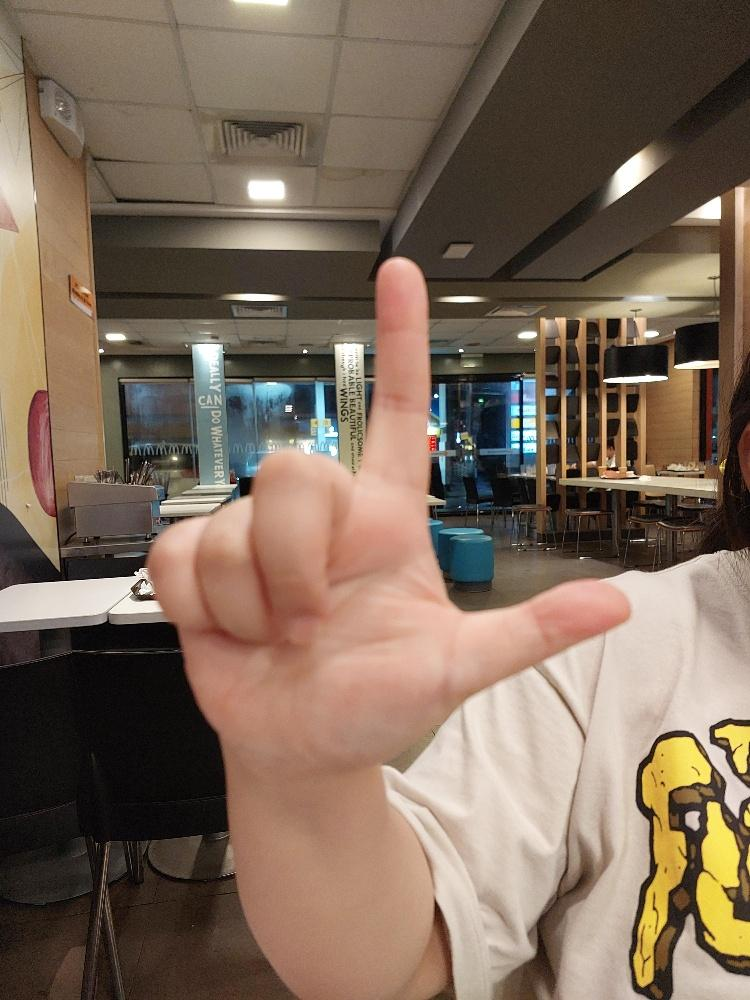l: (144, 254, 633, 767)
